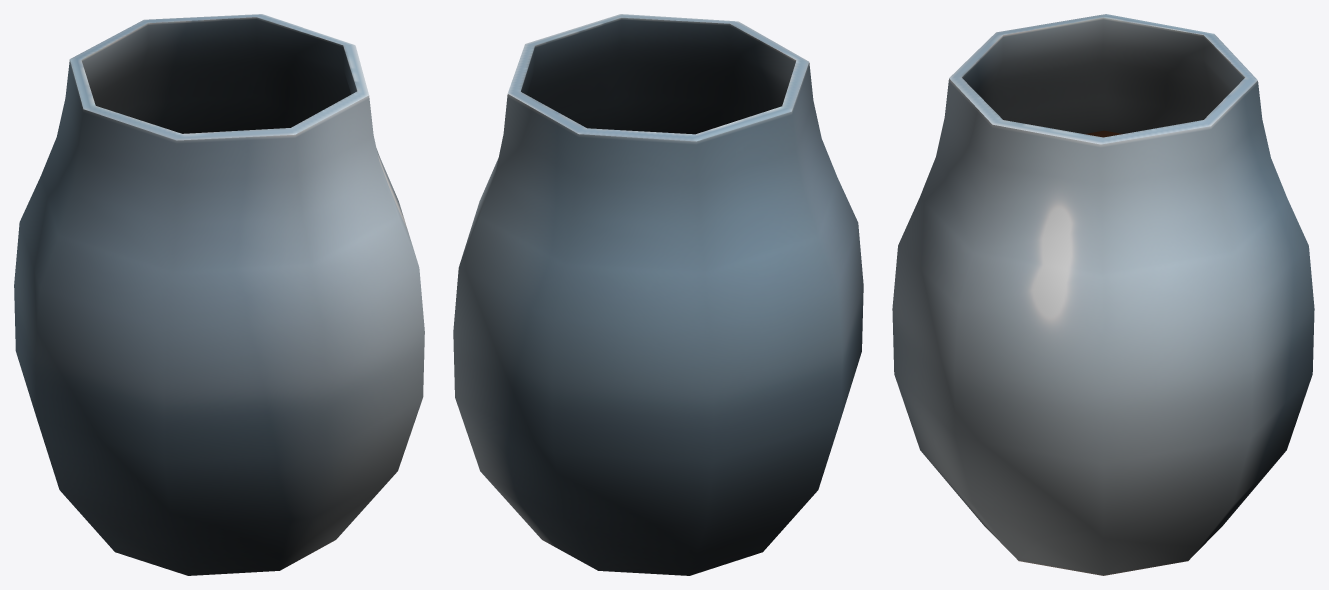
Rendered from NeckarquelleImSchlammfluss_Cocktail.glb.
The picture shows the model from 3 angles, left to right: view 1: azimuth 30°, elevation 25°; view 2: azimuth 150°, elevation 25°; view 3: azimuth 270°, elevation 25°; orthographic projection.
Visible parts, largest first — view 1: CocktailGlass.011; view 2: CocktailGlass.011; view 3: CocktailGlass.011.
Boxes of the visible parts, bbox=[...] form: CocktailGlass.011: bbox=[14, 14, 424, 575]; CocktailGlass.011: bbox=[453, 14, 863, 575]; CocktailGlass.011: bbox=[892, 14, 1314, 575].
Size of the model in its own units: 0.0606 by 0.071 by 0.0606.
Materials: 2 (2 with a texture image).
